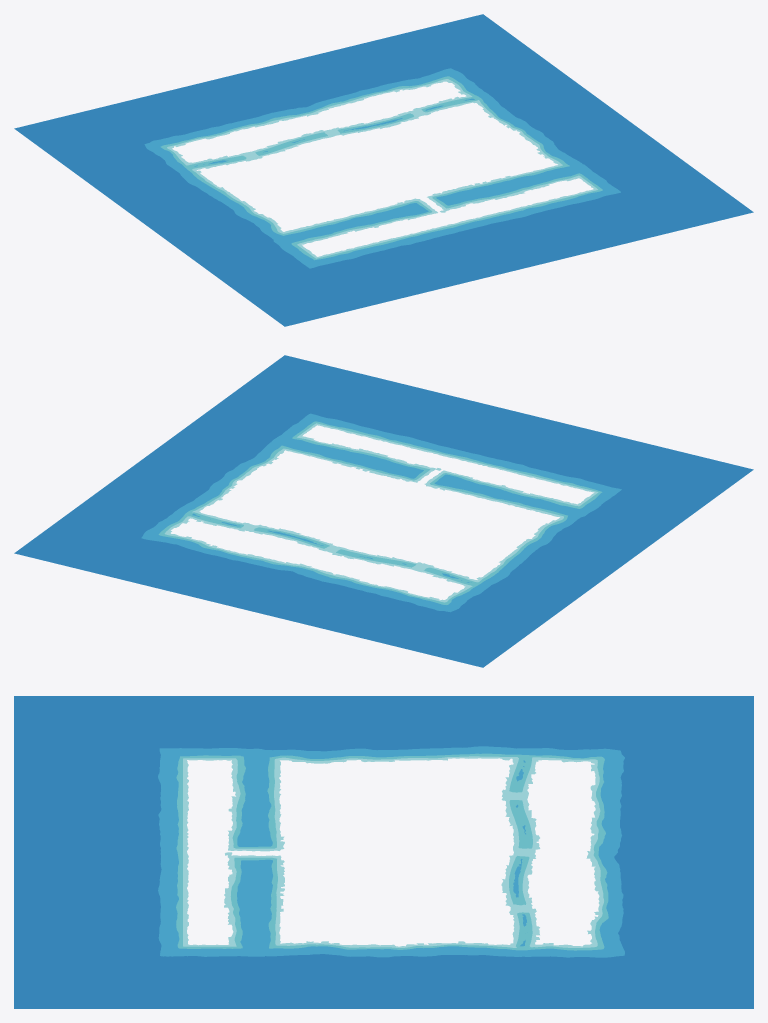
File: Map-M2-Water.fbx
3 renders of one model, top to bottom at view 1: azimuth 30°, elevation 25°; view 2: azimuth 150°, elevation 25°; view 3: azimuth 270°, elevation 25°, orthographic. The views are drawn at different scales.
Visible parts, largest first — view 1: Map-M2-Water; view 2: Map-M2-Water; view 3: Map-M2-Water.
Part boxes in pixels (<box>): Map-M2-Water: <box>14,14,753,326</box>; Map-M2-Water: <box>14,355,753,667</box>; Map-M2-Water: <box>14,696,753,1008</box>.
Size of the model in its own units: 200 by 0 by 200.
